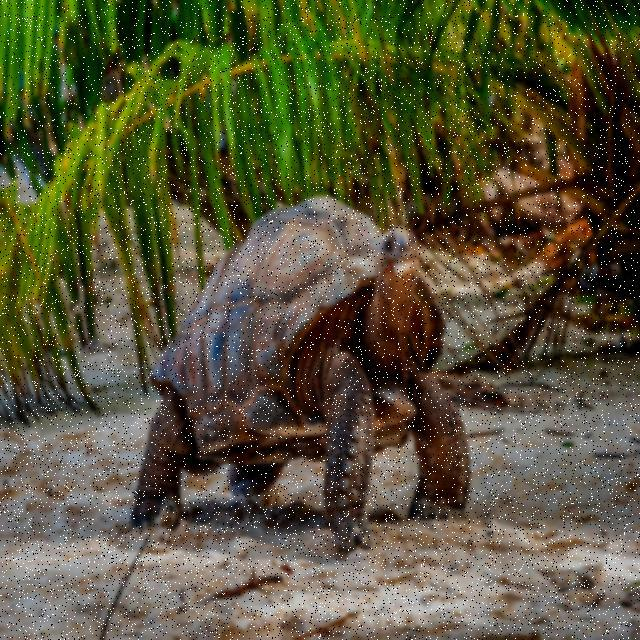tortoise: (132, 187, 486, 558)
